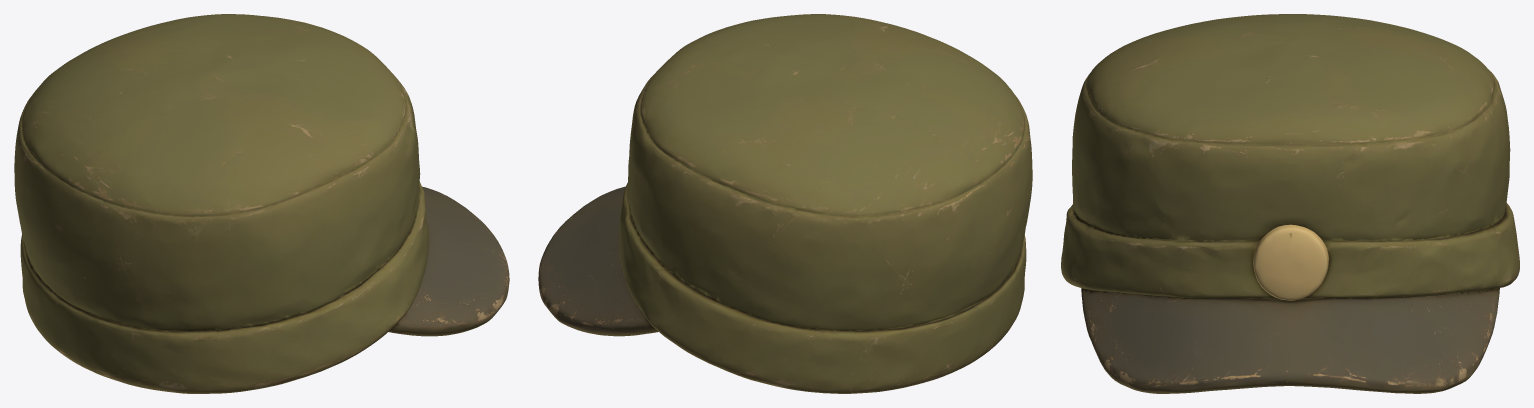
The model's file is headgear_field_cap_tripo_raw.glb.
3 views of the same model, side by side, from view 1: azimuth 30°, elevation 25°; view 2: azimuth 150°, elevation 25°; view 3: azimuth 270°, elevation 25° (orthographic). The views are drawn at different scales.
Visible parts, largest first — view 1: tripo_node_28c1c410-7a27-4a92-98bf-7ca3715ce998; view 2: tripo_node_28c1c410-7a27-4a92-98bf-7ca3715ce998; view 3: tripo_node_28c1c410-7a27-4a92-98bf-7ca3715ce998.
Boxes of the visible parts, x1=… form: tripo_node_28c1c410-7a27-4a92-98bf-7ca3715ce998: x1=14, y1=14, x2=509, y2=393; tripo_node_28c1c410-7a27-4a92-98bf-7ca3715ce998: x1=538, y1=14, x2=1032, y2=393; tripo_node_28c1c410-7a27-4a92-98bf-7ca3715ce998: x1=1061, y1=14, x2=1519, y2=393.
Bounding box in the file's own units: 1 × 0.5693 × 0.9146.
Materials: 1 (1 with a texture image).
